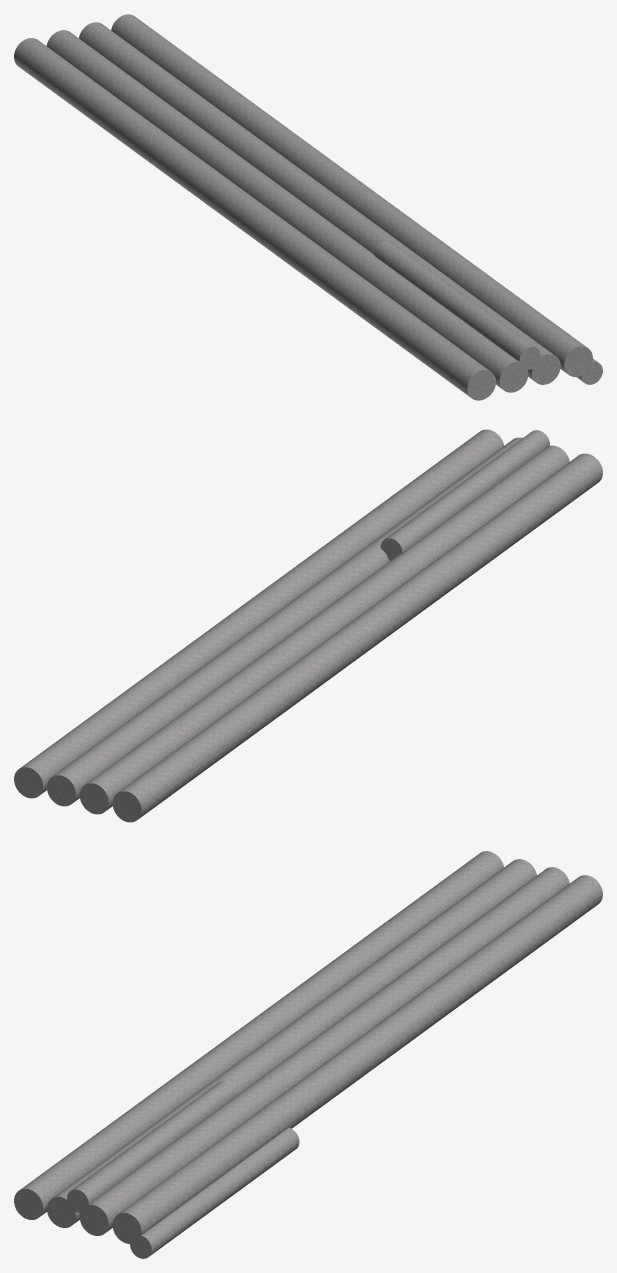
3 renders of one model, top to bottom at view 1: azimuth 30°, elevation 25°; view 2: azimuth 150°, elevation 25°; view 3: azimuth 330°, elevation 25°, orthographic.
Parts seen in each view (by area): view 1: 0_0_2_1_3_2_3_2; view 2: 0_0_2_1_3_2_3_2; view 3: 0_0_2_1_3_2_3_2.
Part boxes in pixels (left/top/right/bottom): 0_0_2_1_3_2_3_2: left=14, top=14, right=602, bottom=400; 0_0_2_1_3_2_3_2: left=14, top=429, right=602, bottom=822; 0_0_2_1_3_2_3_2: left=14, top=851, right=602, bottom=1258.
Size of the model in its own units: 3.78 by 1.4 by 21.9.
Materials: 6 (6 with a texture image).
